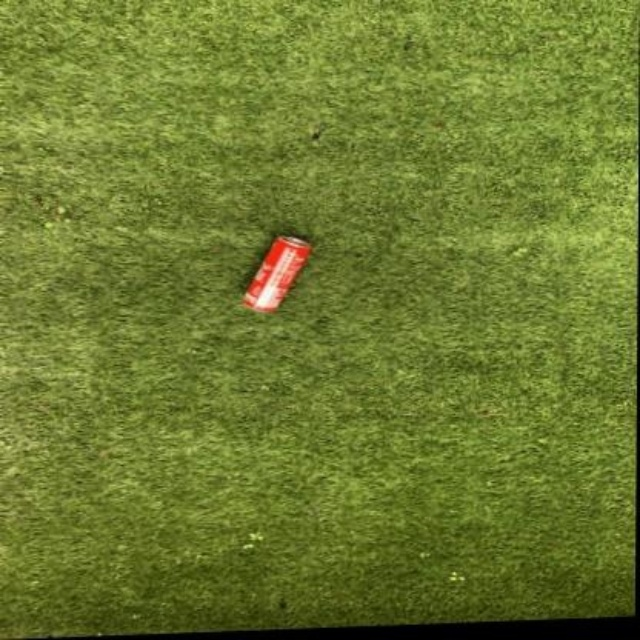trash: (243, 237, 311, 311)
